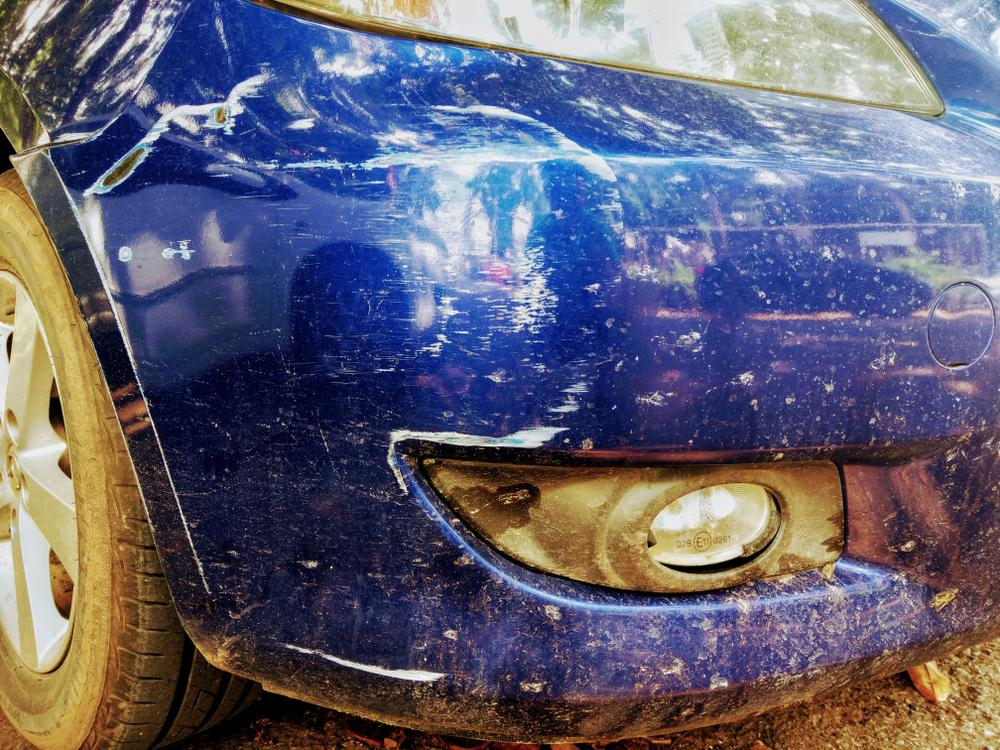scratch: (365, 97, 628, 500), (83, 67, 272, 203), (277, 639, 459, 689)
